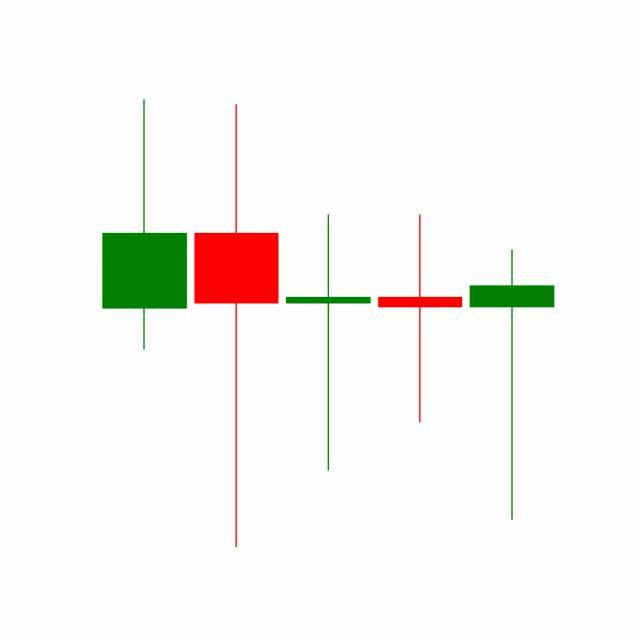Spinning Top: (374, 213, 468, 426)
